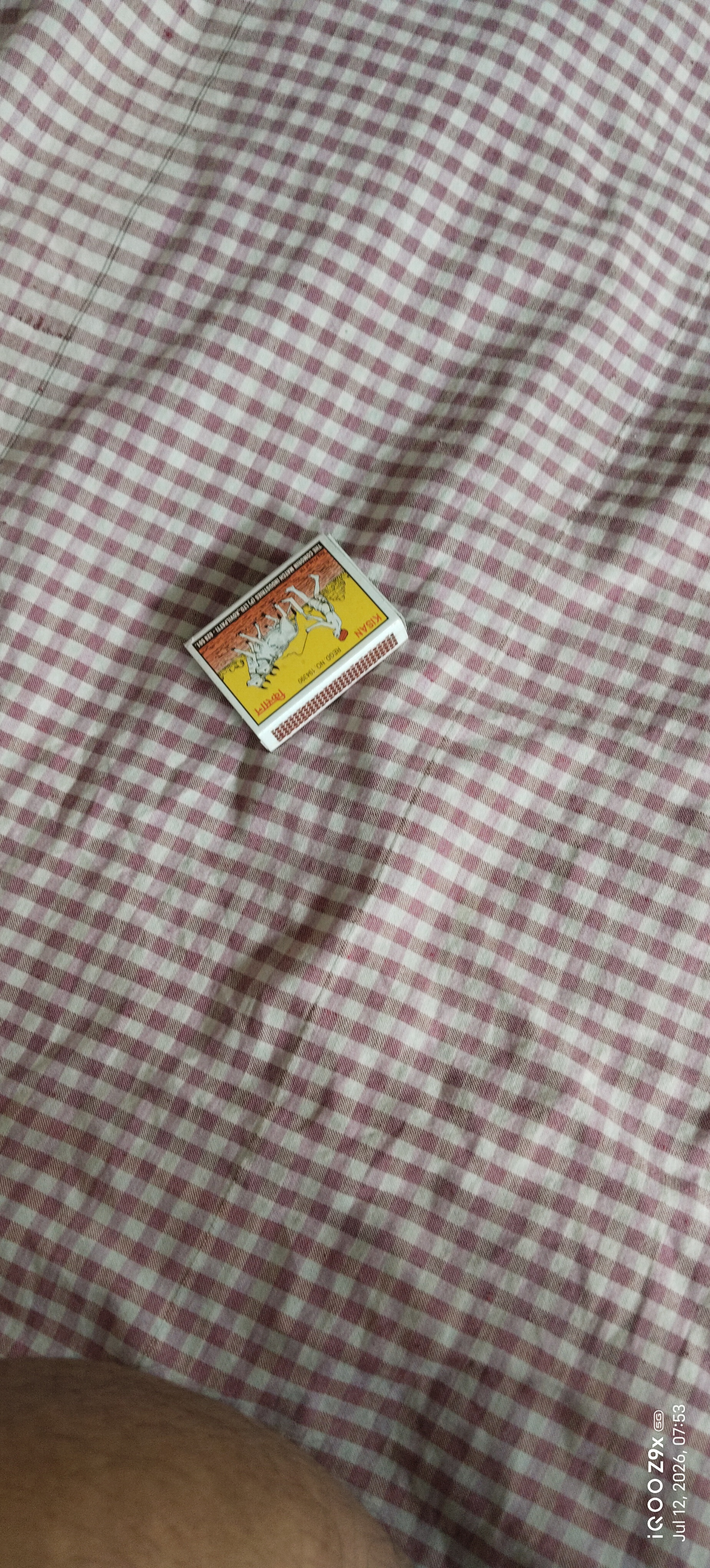matchbox: (148, 461, 443, 806)
